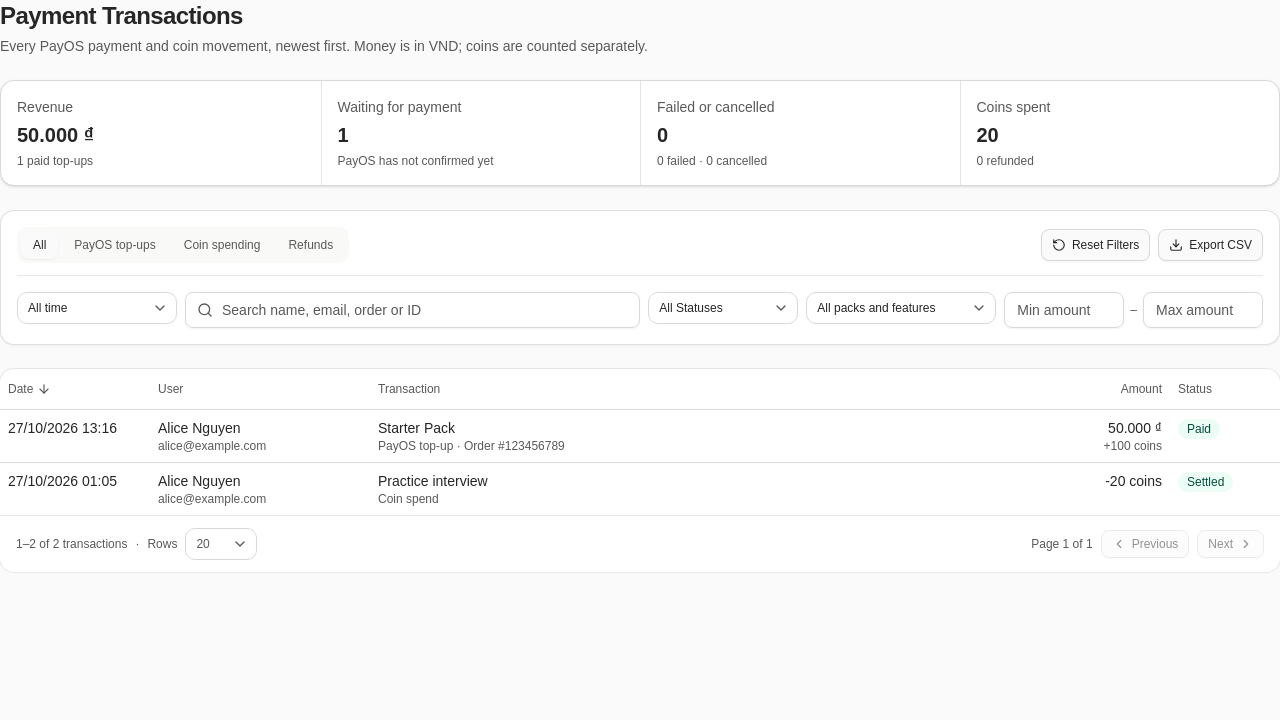
Test: AdminBillingView › clears the window on Reset Filters
The image size is (1280, 720).
Check: the text "27/10/2026 13:16" is shown, box [8,420,117,436]
Press ArrowDown in the dropdown named "Time window", box [17,292,177,324]
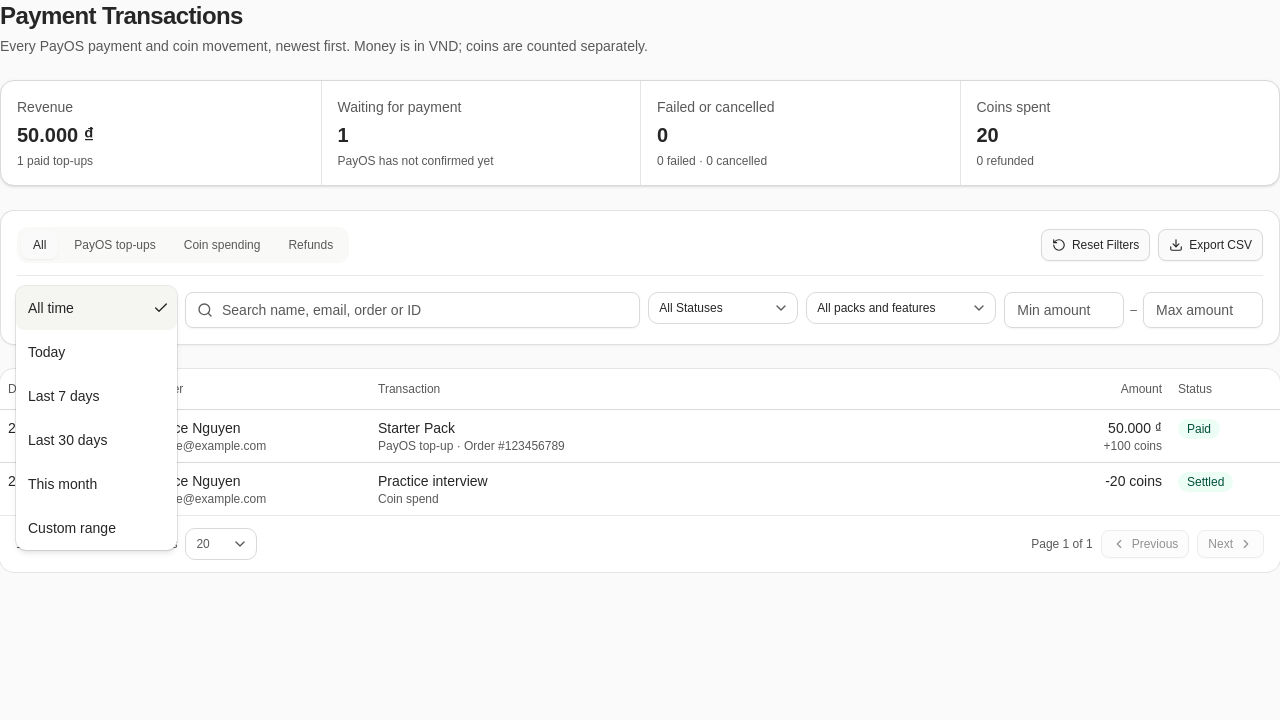
Press Enter in the option "Today", box [28,344,65,360]
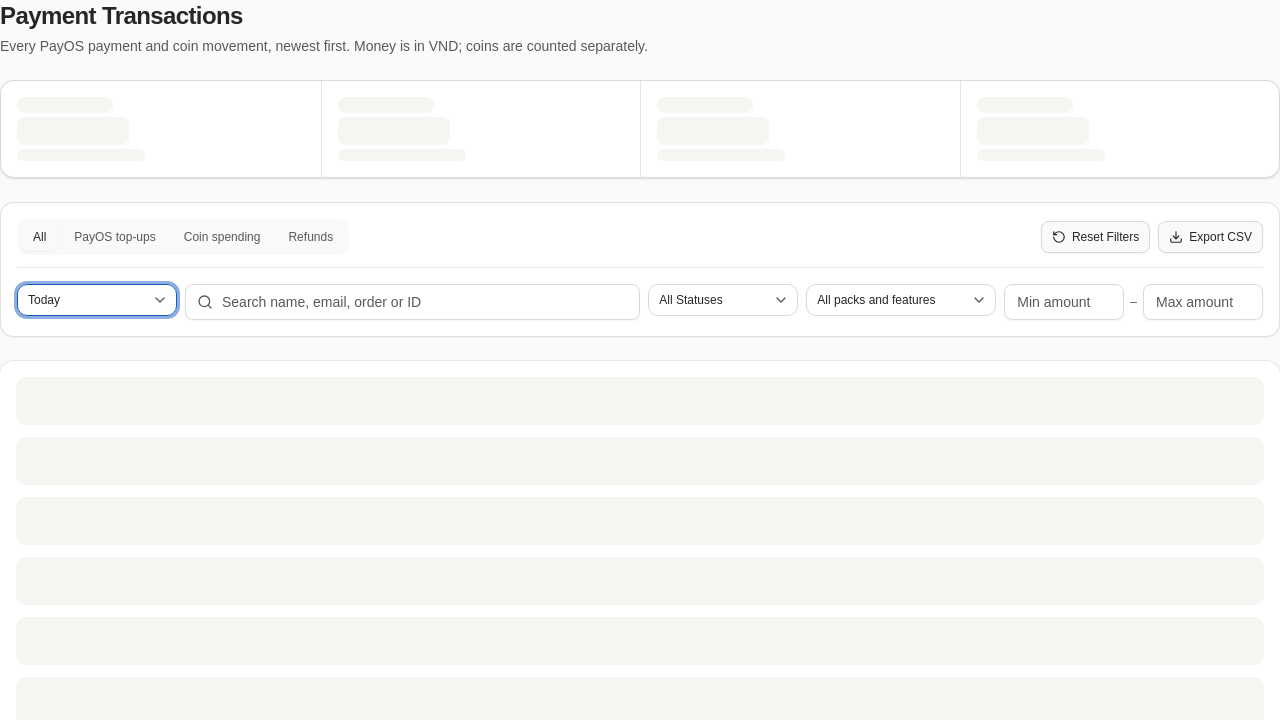
Click the button "Reset Filters" at (1096,237), box [1041,221,1150,253]
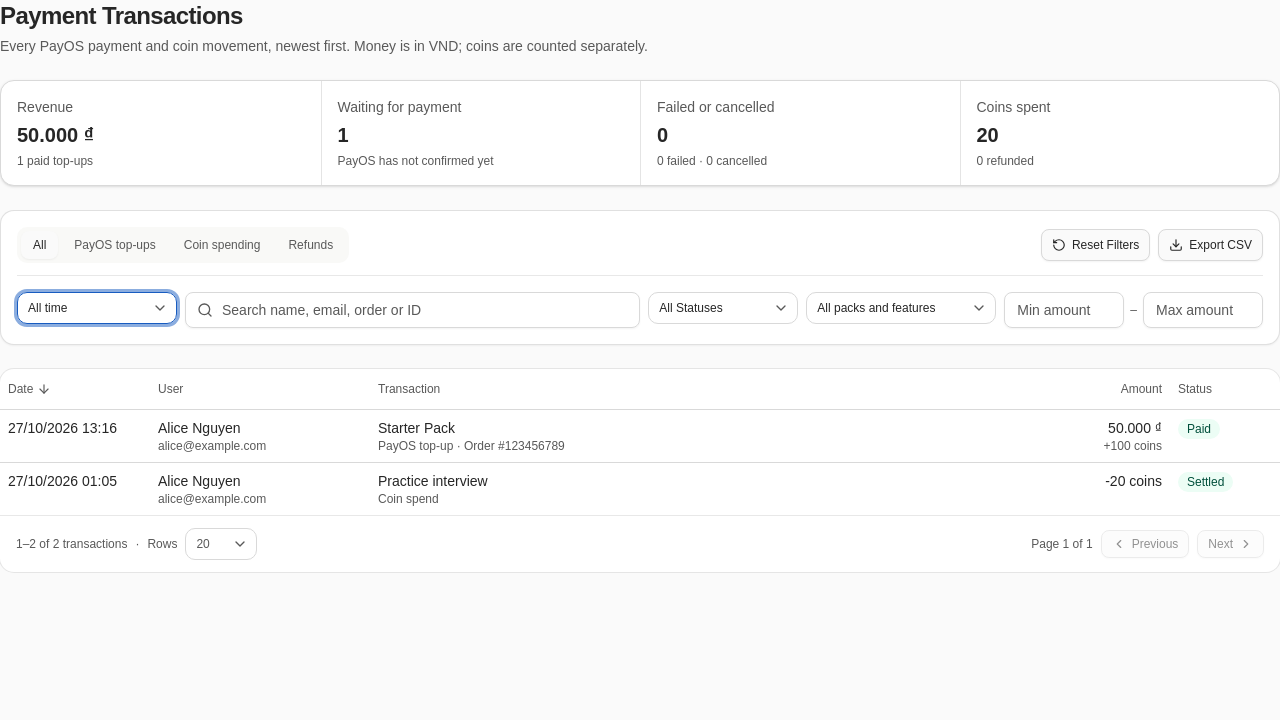
Check: the dropdown named "Time window" reads "All time", box [17,292,177,324]
